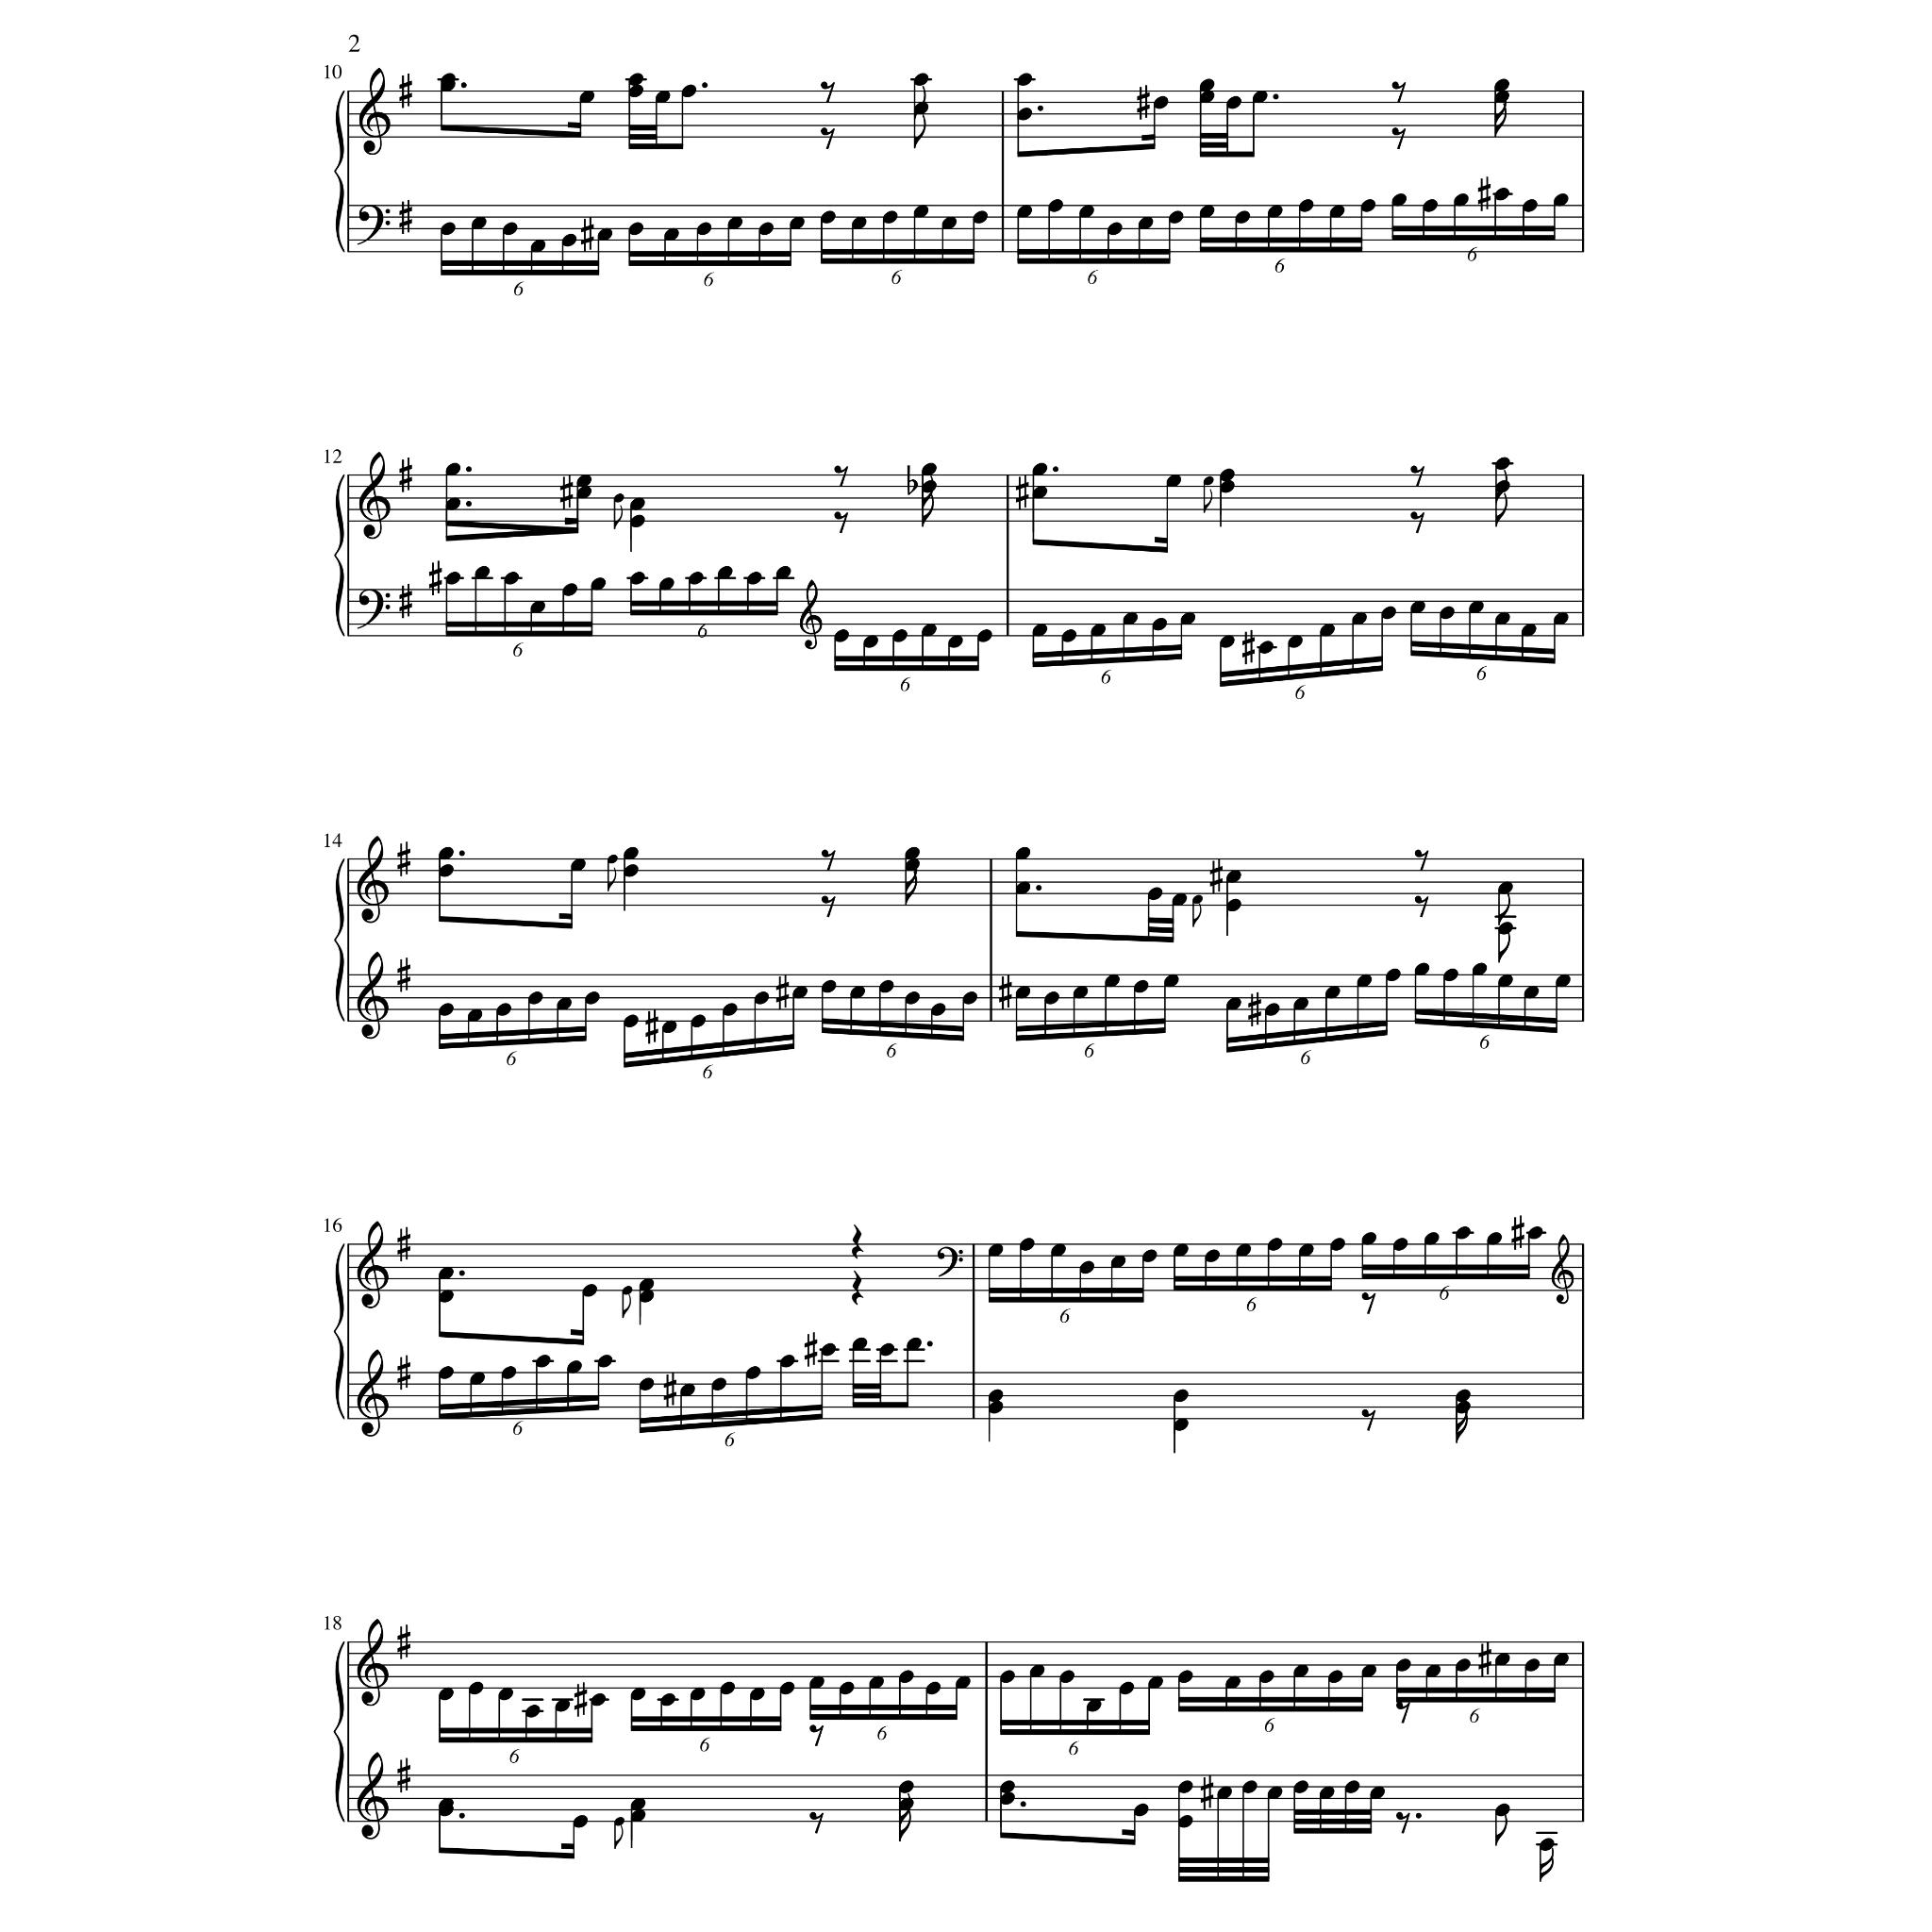brace: (332, 1641, 345, 1823), (332, 1243, 345, 1421), (333, 474, 344, 638), (333, 858, 344, 1023), (333, 91, 344, 253)
fClef: (357, 589, 391, 630), (357, 206, 391, 245)
flag16thDown: (1540, 1848, 1553, 1882)
flag8thDown: (913, 85, 926, 121), (1498, 928, 1511, 964), (1494, 104, 1507, 138), (1494, 92, 1507, 125), (913, 115, 926, 149), (1498, 891, 1511, 925), (1494, 1812, 1507, 1846), (898, 1793, 911, 1827), (898, 1807, 911, 1841), (906, 858, 917, 894), (1496, 493, 1507, 527), (1496, 470, 1507, 504), (923, 493, 934, 527), (923, 475, 934, 509), (906, 872, 917, 906), (1457, 1401, 1468, 1435), (1457, 1409, 1468, 1443), (1204, 489, 1213, 513), (614, 505, 624, 529), (1192, 903, 1202, 927), (608, 867, 617, 891), (623, 1293, 630, 1318), (615, 1824, 623, 1849)
gClef: (358, 67, 391, 156), (358, 451, 391, 540), (357, 951, 389, 1040), (357, 836, 389, 924), (357, 1221, 389, 1309), (357, 1349, 389, 1438), (357, 1752, 389, 1840), (357, 1618, 389, 1707)
noteheadBlack: (1198, 204, 1215, 219), (1266, 204, 1283, 219), (1328, 204, 1345, 219), (1151, 617, 1168, 632), (921, 462, 938, 477), (1104, 974, 1121, 989), (1555, 974, 1572, 989), (930, 1002, 947, 1017), (1172, 1389, 1189, 1404), (638, 1289, 655, 1304), (987, 1389, 1004, 1404), (987, 1400, 1004, 1415), (1241, 1779, 1258, 1794), (1292, 1779, 1309, 1794), (1343, 1779, 1360, 1794), (1079, 204, 1094, 219), (913, 204, 928, 219), (1017, 204, 1032, 219), (1032, 462, 1047, 477), (445, 462, 460, 477), (1172, 892, 1187, 908), (1163, 974, 1178, 989), (1264, 1002, 1279, 1017), (1357, 974, 1372, 989), (1498, 974, 1513, 989), (1498, 921, 1513, 936), (439, 1002, 454, 1017), (496, 1002, 511, 1017), (723, 1002, 738, 1017), (1079, 1260, 1094, 1275), (1456, 1389, 1471, 1404), (1456, 1400, 1471, 1415), (439, 1289, 454, 1304), (1177, 1779, 1192, 1794), (525, 1704, 540, 1719), (898, 1779, 913, 1794), (1000, 1779, 1015, 1794), (1198, 91, 1215, 104), (1198, 79, 1215, 92), (1168, 211, 1185, 225), (1251, 91, 1268, 104), (1234, 211, 1251, 225), (1106, 223, 1123, 236), (1047, 199, 1064, 212), (1553, 193, 1570, 207), (1391, 193, 1407, 207), (1298, 199, 1315, 212), (1453, 193, 1470, 207), (596, 228, 613, 241), (560, 234, 577, 247), (440, 223, 457, 236), (440, 79, 457, 92), (440, 74, 457, 87), (881, 211, 898, 225), (851, 217, 868, 230), (972, 211, 989, 225), (789, 217, 806, 230), (726, 217, 743, 230), (819, 211, 836, 225), (1219, 469, 1236, 482), (1179, 612, 1196, 625), (1287, 636, 1304, 649), (1219, 636, 1236, 649), (1219, 480, 1236, 493), (1060, 629, 1077, 642), (1553, 612, 1570, 625), (1409, 601, 1426, 614), (1351, 612, 1368, 625), (1319, 624, 1336, 637), (1494, 612, 1511, 625), (1494, 480, 1511, 493), (1494, 458, 1511, 471), (1468, 601, 1485, 614), (575, 475, 592, 488), (575, 486, 592, 499), (474, 566, 491, 579), (862, 636, 879, 649), (947, 636, 964, 649), (921, 624, 938, 637), (921, 480, 938, 493), (687, 572, 704, 585), (745, 572, 762, 585), (1292, 997, 1309, 1010), (1132, 980, 1149, 993), (1072, 986, 1089, 999), (1043, 991, 1060, 1005), (1523, 986, 1540, 999), (1413, 963, 1430, 976), (1385, 969, 1402, 982), (570, 858, 587, 872), (526, 991, 543, 1005), (660, 1021, 677, 1034), (623, 1015, 640, 1028), (623, 864, 640, 877), (623, 847, 640, 860), (466, 1008, 483, 1022), (904, 991, 921, 1005), (904, 858, 921, 872), (904, 847, 921, 860), (877, 980, 894, 993), (849, 986, 866, 999), (753, 991, 770, 1005), (1204, 1249, 1221, 1262), (1172, 1418, 1189, 1431), (1172, 1243, 1189, 1257), (1298, 1243, 1315, 1257), (1266, 1238, 1283, 1251), (1019, 1238, 1036, 1251), (1109, 1256, 1126, 1269), (1526, 1226, 1543, 1240), (1360, 1232, 1377, 1245), (1423, 1232, 1440, 1245), (581, 1284, 598, 1297), (566, 1360, 583, 1374), (500, 1366, 517, 1379), (638, 1378, 655, 1391), (638, 1278, 655, 1291), (596, 1355, 613, 1368), (851, 1338, 868, 1351), (987, 1243, 1004, 1257), (906, 1338, 923, 1351), (679, 1383, 696, 1396), (779, 1355, 796, 1368), (1224, 1675, 1241, 1689), (1292, 1664, 1309, 1677), (1266, 1786, 1283, 1799), (1085, 1699, 1102, 1712), (1058, 1670, 1075, 1683), (1028, 1664, 1045, 1677), (1147, 1675, 1164, 1689), (1553, 1653, 1570, 1666), (1538, 1838, 1555, 1851), (1394, 1658, 1411, 1672), (1360, 1664, 1377, 1677), (1494, 1804, 1511, 1817), (1494, 1653, 1511, 1666), (1424, 1664, 1441, 1677), (572, 1815, 589, 1828), (719, 1682, 736, 1695), (689, 1688, 706, 1701), (924, 1682, 941, 1695), (868, 1675, 885, 1689), (955, 1675, 972, 1689), (838, 1682, 855, 1695), (1226, 96, 1241, 109), (1153, 96, 1168, 109), (1138, 217, 1153, 230), (1523, 199, 1538, 212), (1360, 199, 1375, 212), (1494, 188, 1509, 201), (1494, 91, 1509, 104), (1494, 79, 1509, 92), (1423, 199, 1438, 212), (628, 223, 643, 236), (628, 85, 643, 98), (628, 74, 643, 87), (579, 91, 594, 104), (681, 85, 696, 98), (655, 91, 670, 104), (530, 240, 545, 253), (502, 223, 517, 236), (472, 217, 487, 230), (664, 228, 679, 241), (913, 102, 928, 115), (913, 74, 928, 87), (1017, 108, 1032, 121), (1017, 74, 1032, 87), (941, 217, 957, 230), (758, 223, 774, 236), (696, 223, 711, 236), (1166, 475, 1181, 488), (1258, 641, 1274, 654), (1032, 624, 1047, 637), (1032, 486, 1047, 499), (1123, 612, 1138, 625), (1091, 624, 1106, 637), (1521, 624, 1536, 637), (1381, 607, 1396, 620), (1440, 607, 1455, 620), (591, 577, 606, 591), (562, 583, 577, 596), (530, 601, 545, 614), (630, 572, 645, 585), (630, 515, 645, 528), (630, 498, 645, 511), (445, 572, 460, 585), (445, 498, 460, 511), (504, 572, 519, 585), (977, 629, 992, 642), (892, 629, 908, 642), (717, 566, 732, 579), (775, 566, 791, 579), (658, 577, 674, 591), (834, 629, 849, 642), (1226, 997, 1241, 1010), (1226, 899, 1241, 912), (1226, 870, 1241, 883), (1147, 888, 1162, 901), (1498, 882, 1513, 895), (1324, 986, 1340, 999), (1472, 963, 1487, 976), (1443, 969, 1458, 982), (585, 991, 600, 1005), (557, 997, 572, 1010), (691, 1015, 706, 1028), (439, 864, 454, 877), (439, 847, 454, 860), (1015, 986, 1030, 999), (1015, 882, 1030, 895), (1015, 847, 1030, 860), (962, 991, 977, 1005), (792, 986, 808, 999), (821, 980, 836, 993), (1330, 1238, 1345, 1251), (1236, 1243, 1251, 1257), (1141, 1249, 1157, 1262), (1051, 1243, 1066, 1257), (1487, 1232, 1502, 1245), (1392, 1238, 1407, 1251), (1456, 1226, 1471, 1240), (536, 1355, 551, 1368), (439, 1267, 454, 1280), (470, 1372, 485, 1385), (439, 1366, 454, 1379), (821, 1343, 836, 1357), (879, 1343, 894, 1357), (745, 1366, 760, 1379), (711, 1378, 726, 1391), (1258, 1670, 1274, 1683), (1217, 1786, 1232, 1799), (1327, 1670, 1342, 1683), (1319, 1786, 1334, 1799), (1119, 1682, 1134, 1695), (1177, 1815, 1192, 1828), (1177, 1670, 1192, 1683), (1134, 1804, 1149, 1817), (1524, 1658, 1540, 1672), (1370, 1786, 1385, 1799), (1455, 1658, 1470, 1672), (591, 1693, 606, 1707), (630, 1809, 645, 1823), (630, 1688, 645, 1701), (630, 1798, 645, 1811), (555, 1699, 570, 1712), (660, 1693, 675, 1707), (439, 1798, 454, 1811), (439, 1804, 454, 1817), (439, 1688, 454, 1701), (468, 1682, 483, 1695), (498, 1688, 513, 1701), (898, 1670, 913, 1683), (898, 1798, 913, 1811), (1000, 1791, 1015, 1805), (1000, 1670, 1015, 1683), (779, 1682, 794, 1695), (809, 1675, 824, 1689), (749, 1688, 764, 1701), (1203, 475, 1214, 487), (613, 492, 625, 504), (1191, 894, 1203, 906), (607, 855, 618, 864), (622, 1286, 633, 1295), (613, 1817, 625, 1826)
rest8th: (1391, 127, 1407, 150), (1391, 81, 1407, 104), (820, 127, 835, 150), (820, 81, 835, 104), (1410, 511, 1425, 534), (1410, 465, 1425, 488), (834, 465, 849, 488), (834, 511, 849, 534), (1414, 895, 1429, 918), (1414, 849, 1429, 872), (821, 895, 836, 918), (821, 849, 836, 872), (1361, 1409, 1376, 1432), (1361, 1292, 1376, 1315), (1395, 1811, 1410, 1834), (1395, 1701, 1410, 1724), (808, 1811, 824, 1834), (808, 1724, 824, 1747)
restQuarter: (851, 1270, 864, 1306), (851, 1224, 864, 1259)
